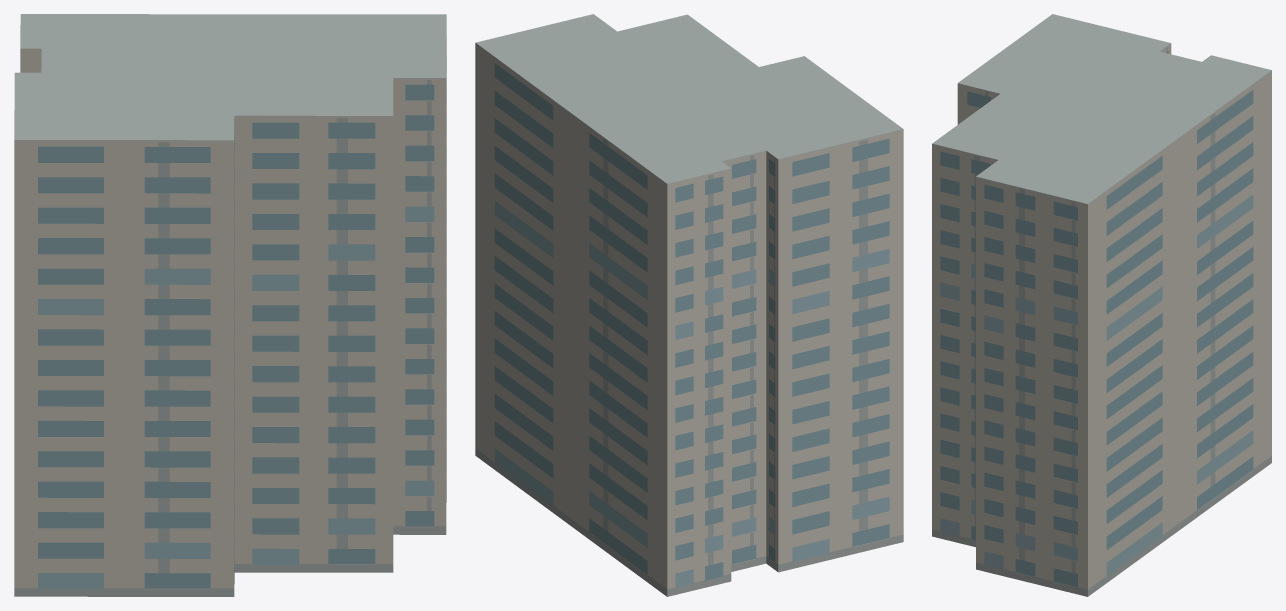
The model's file is residential-6a4ec7e2-53df-4e44-b2fd-0d284c9b2757.glb.
3 renders of one model, left to right at view 1: azimuth 30°, elevation 25°; view 2: azimuth 150°, elevation 25°; view 3: azimuth 270°, elevation 25°, orthographic. The views are drawn at different scales.
Visible parts, largest first — view 1: residential-6a4ec7e2-53df-4e44-b2fd-0d284c9b2757.tmp; view 2: residential-6a4ec7e2-53df-4e44-b2fd-0d284c9b2757.tmp; view 3: residential-6a4ec7e2-53df-4e44-b2fd-0d284c9b2757.tmp.
Part boxes in pixels (bbox=[...]): residential-6a4ec7e2-53df-4e44-b2fd-0d284c9b2757.tmp: bbox=[14, 14, 446, 596]; residential-6a4ec7e2-53df-4e44-b2fd-0d284c9b2757.tmp: bbox=[475, 14, 903, 596]; residential-6a4ec7e2-53df-4e44-b2fd-0d284c9b2757.tmp: bbox=[932, 14, 1271, 596].
Size of the model in its own units: 56.04 by 54 by 42.35.
